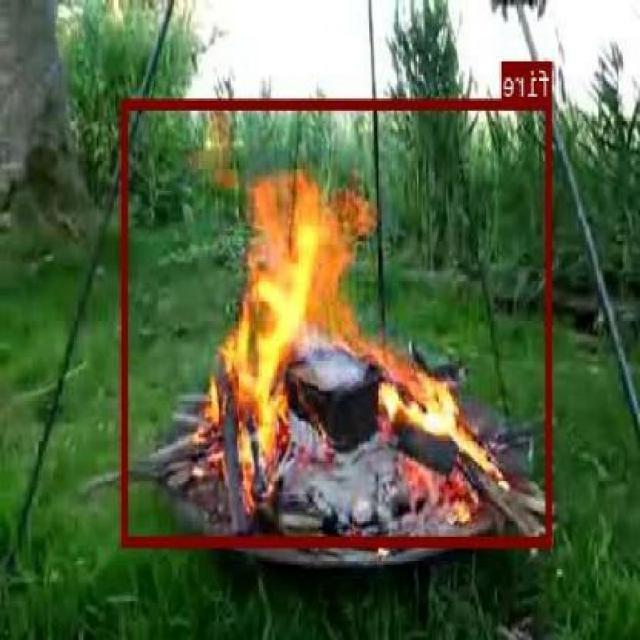Fire: (123, 98, 552, 544)
